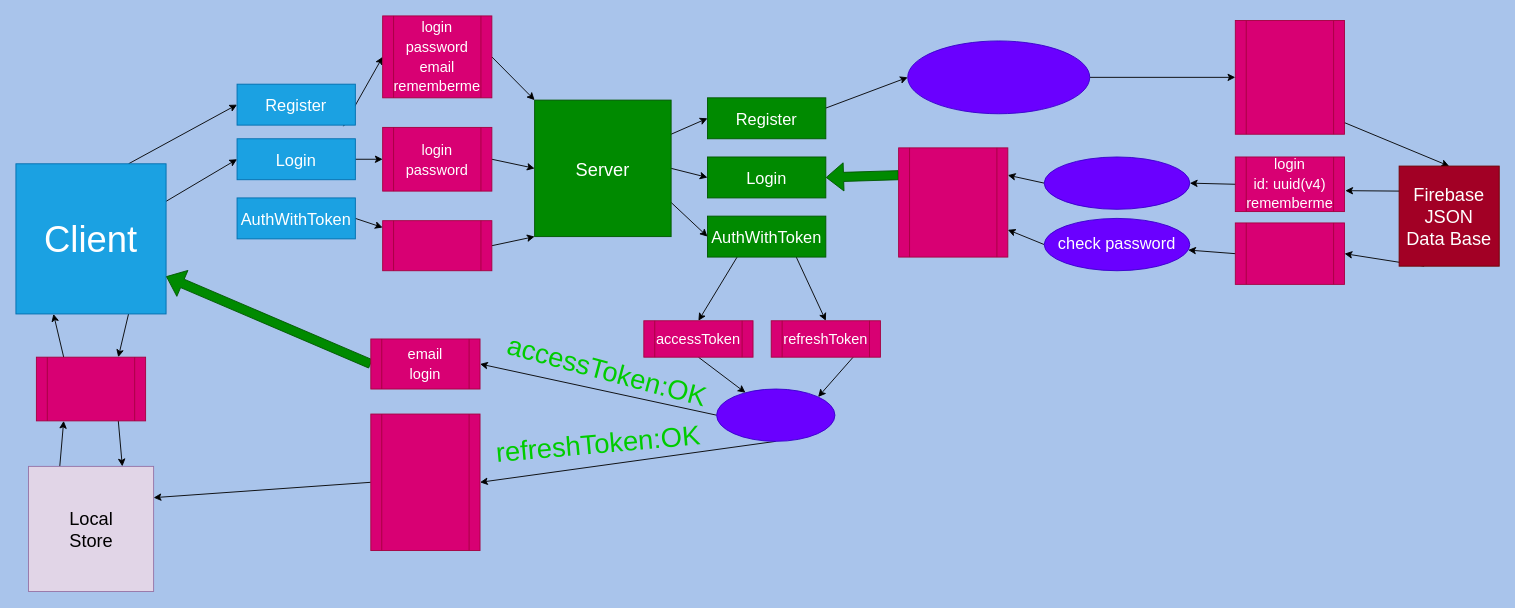
This 1515x608 diagram has some shape labels left out. The shapes that lost their labels are listed below. From the top down, each one's centre as x and y in pixels, then its label:
At point (998, 77): "validation of unique for email and login".
At point (1289, 77): "login hashPassword email id: uuid(v4) rememberme".
At point (953, 202): "validation status message accessToken refreshToken".
At point (1116, 182): "createTokens".
At point (437, 245): "accessToken or refreshToken".
At point (1289, 253): "login email id: uuid(v4)".
At point (90, 388): "accessToken refreshToken validation".
At point (775, 414): "JWT Verify".
At point (425, 482): "newAccessToken validation refreshToken email login status message".
